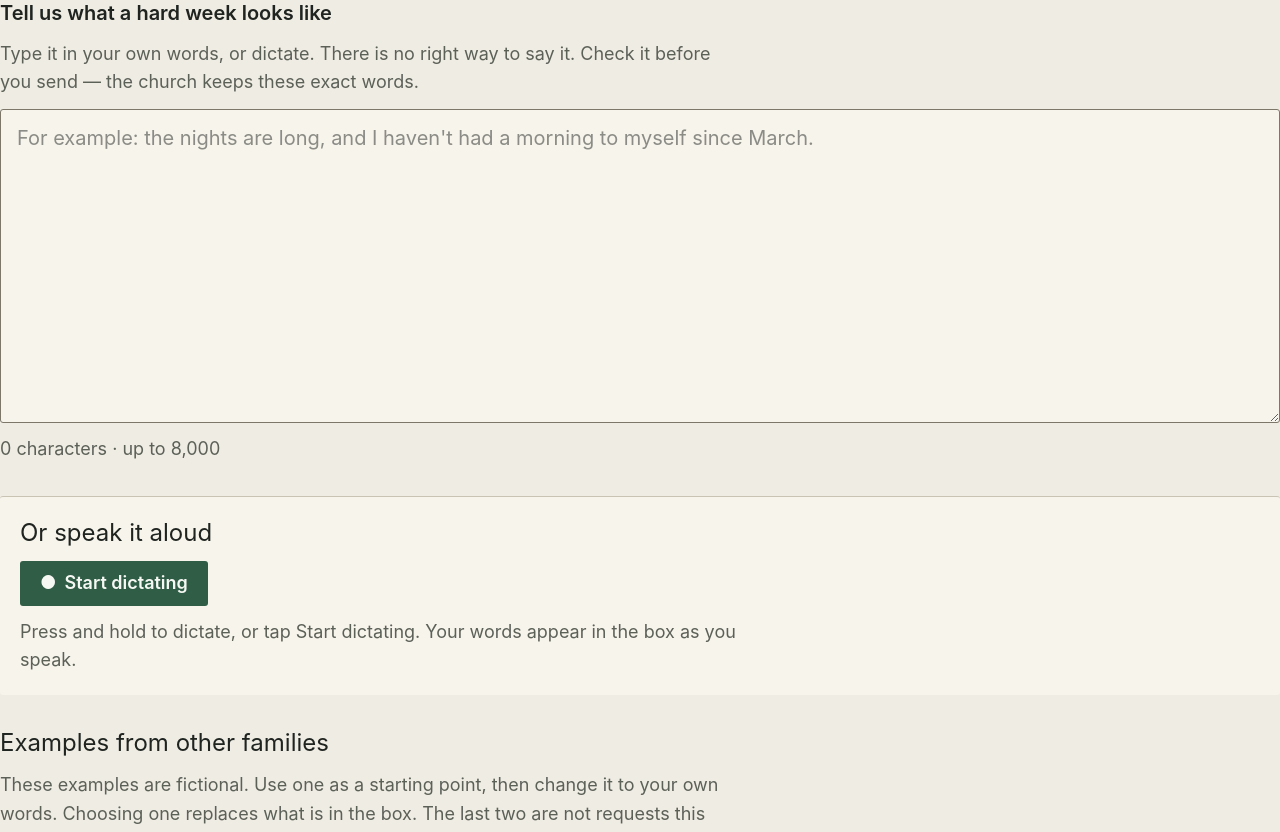
Test: AskForm dictation › appends interim and final transcript to the box
Later steps or results of the test are not shown.
Click the button "● Start dictating" at (114, 583), box [20,561,208,606]
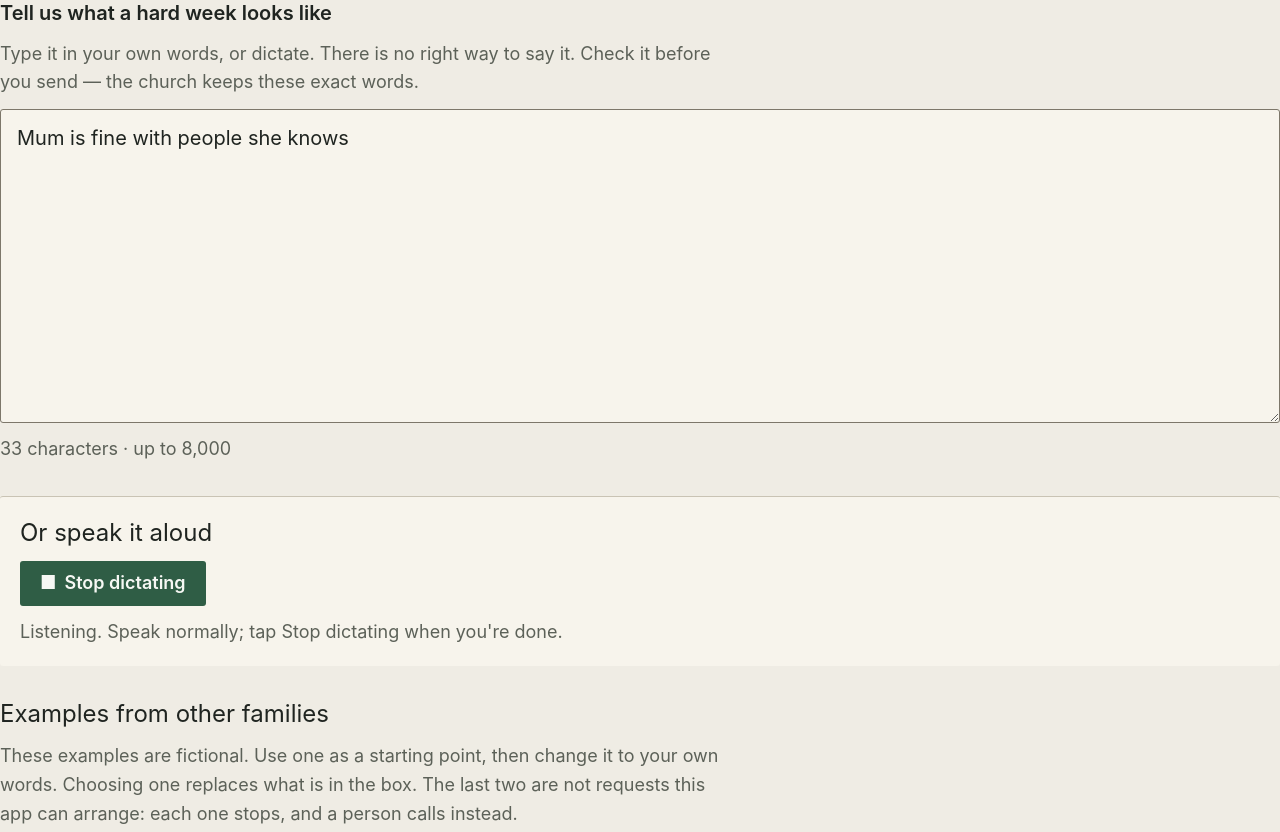
expect the text box labelled "Tell us what a hard week looks like" holds "Mum is fine with people she knows": met, box [0,109,1279,423]
Click the button "■ Stop dictating" at (113, 583), box [20,561,206,606]
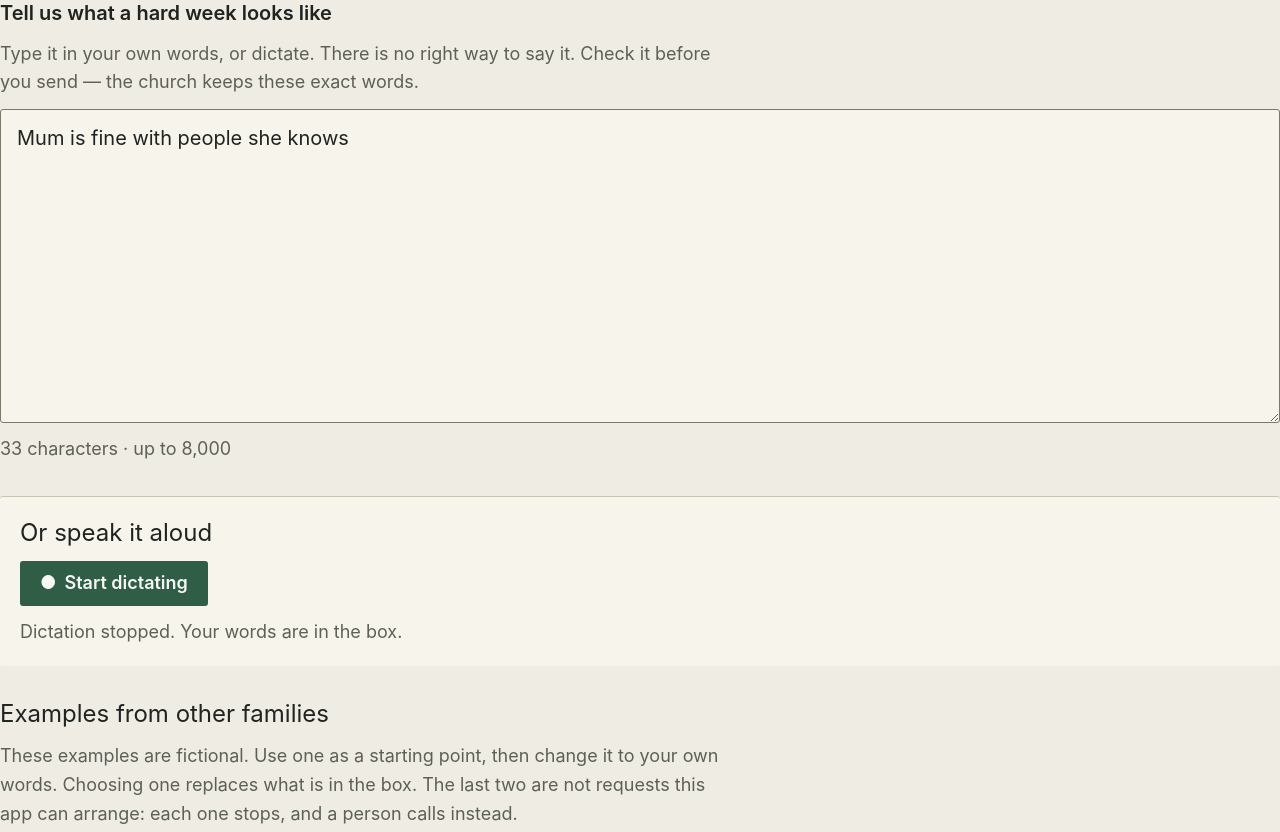
expect the text box labelled "Tell us what a hard week looks like" holds "Mum is fine with people she knows": met, box [0,109,1279,423]
expect the text "Dictation stopped. Your words are in the box." is shown: met, box [20,621,402,642]
